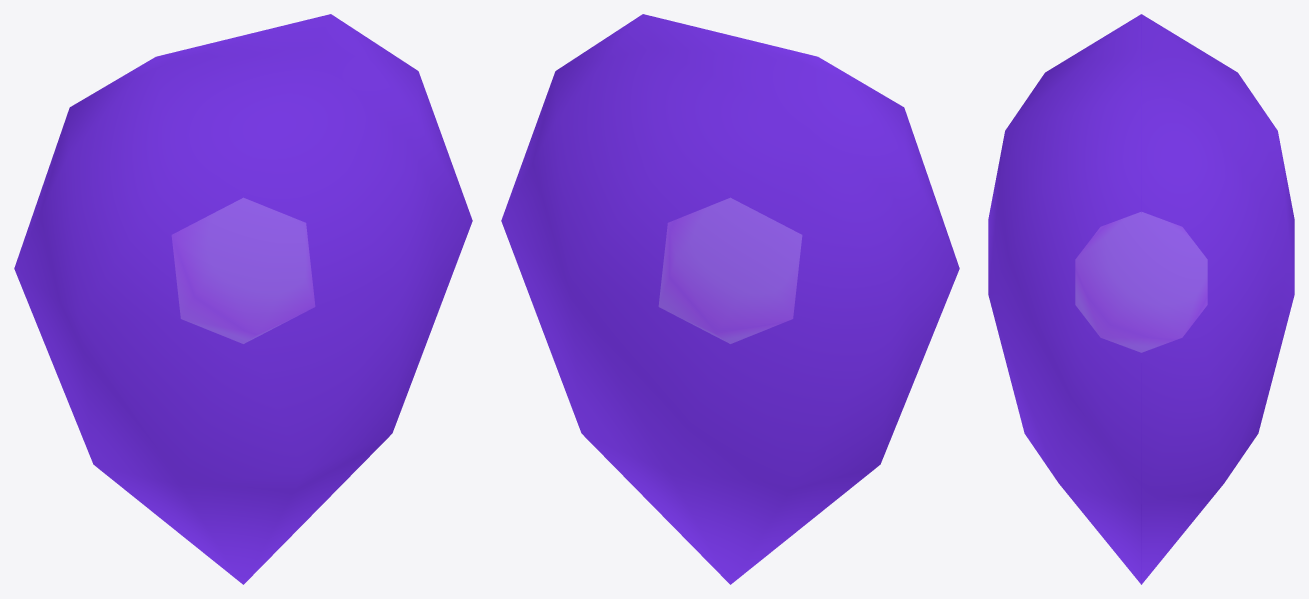
File: res_rift_heart.glb
The picture shows the model from 3 angles, left to right: view 1: azimuth 30°, elevation 25°; view 2: azimuth 150°, elevation 25°; view 3: azimuth 270°, elevation 25°; orthographic projection. The views are drawn at different scales.
Parts seen in each view (by area): view 1: res_rift_heart; view 2: res_rift_heart; view 3: res_rift_heart.
Part boxes in pixels (box(x1,y1,x2,y2)): res_rift_heart: box(14, 14, 472, 584); res_rift_heart: box(501, 14, 959, 584); res_rift_heart: box(988, 14, 1294, 584).
Bounding box in the file's own units: 0.1571 × 0.21 × 0.1099.
